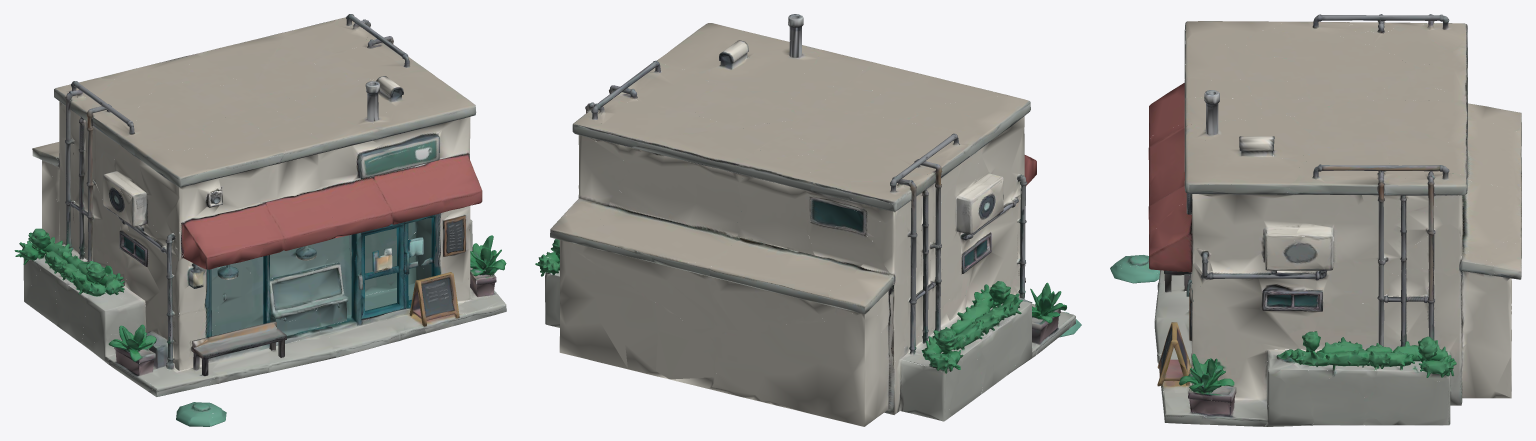
The model's file is building12.glb.
The picture shows the model from 3 angles, left to right: view 1: azimuth 30°, elevation 25°; view 2: azimuth 150°, elevation 25°; view 3: azimuth 270°, elevation 25°; orthographic projection. The views are drawn at different scales.
Parts seen in each view (by area): view 1: tripo_node_7d9c8a4e-dcf4-4141-8eef-cf0eca2abd2f; view 2: tripo_node_7d9c8a4e-dcf4-4141-8eef-cf0eca2abd2f; view 3: tripo_node_7d9c8a4e-dcf4-4141-8eef-cf0eca2abd2f.
Part boxes in pixels (bbox=[...]): tripo_node_7d9c8a4e-dcf4-4141-8eef-cf0eca2abd2f: bbox=[14, 14, 506, 426]; tripo_node_7d9c8a4e-dcf4-4141-8eef-cf0eca2abd2f: bbox=[535, 14, 1081, 426]; tripo_node_7d9c8a4e-dcf4-4141-8eef-cf0eca2abd2f: bbox=[1110, 14, 1521, 426].
Size of the model in its own units: 1 by 0.6352 by 0.8165.
1 material, 1 textured.
